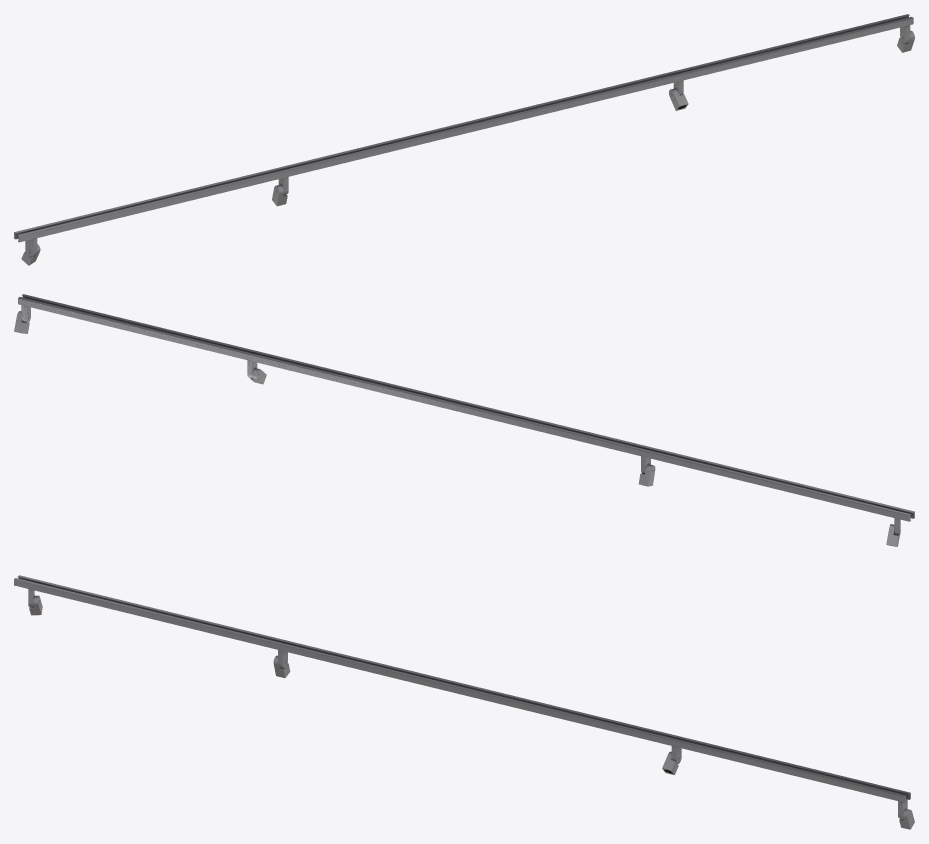
The model's file is tracklight.gltf.
The picture shows the model from 3 angles, top to bottom: view 1: azimuth 30°, elevation 25°; view 2: azimuth 150°, elevation 25°; view 3: azimuth 330°, elevation 25°; orthographic projection.
Visible parts, largest first — view 1: tracklight; view 2: tracklight; view 3: tracklight.
Boxes of the visible parts, bbox=[...] form: tracklight: bbox=[14, 14, 914, 265]; tracklight: bbox=[14, 294, 914, 546]; tracklight: bbox=[14, 575, 914, 829].
Size of the model in its own units: 3.61 by 0.1381 by 0.1051.
1 material, 1 textured.
